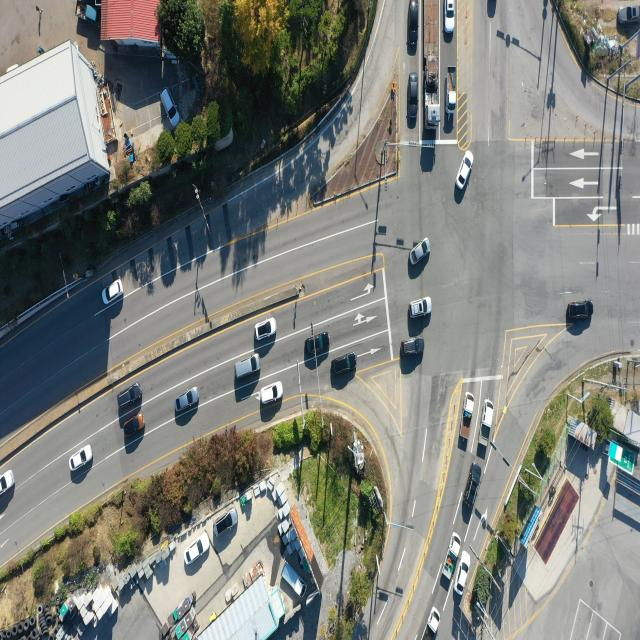car: (184, 530, 210, 566), (466, 463, 484, 512), (160, 89, 179, 130), (235, 352, 261, 380), (456, 150, 473, 190), (406, 0, 419, 52), (305, 332, 332, 357), (455, 552, 471, 594), (332, 352, 359, 376), (214, 510, 237, 538), (176, 387, 200, 413), (410, 238, 430, 267), (70, 443, 92, 469), (567, 300, 593, 322), (261, 382, 285, 405), (119, 383, 143, 406), (102, 280, 123, 306), (410, 72, 420, 123), (256, 318, 278, 340), (411, 298, 433, 320), (125, 415, 146, 438), (400, 338, 424, 358), (618, 5, 640, 24), (0, 472, 14, 500), (446, 0, 456, 33)
large_truck: (422, 0, 440, 127)
small_truck: (281, 558, 306, 599), (480, 399, 496, 448), (461, 394, 476, 444), (443, 534, 460, 578), (446, 65, 456, 113), (74, 0, 97, 20), (428, 604, 442, 634)
